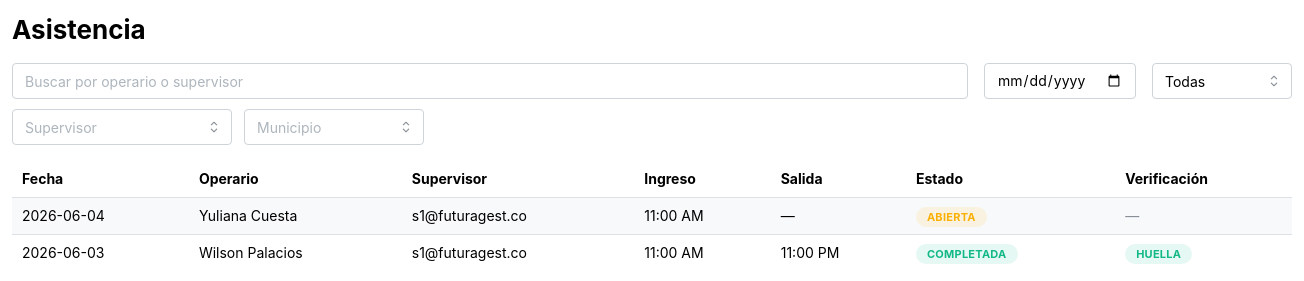
Test case: AsistenciaPage › filters by search
The image size is (1304, 281).
Type "Yuliana" into the field named "Buscar asistencia". click: (490, 81)
box: [12, 63, 968, 99]
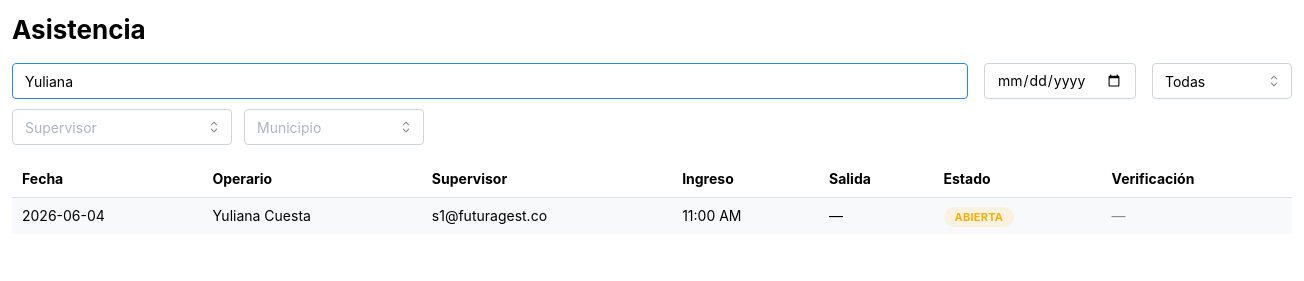
Expected: the text "Yuliana Cuesta" is shown, [202, 197, 422, 234]
Now the text "Wilson Palacios" is gone
